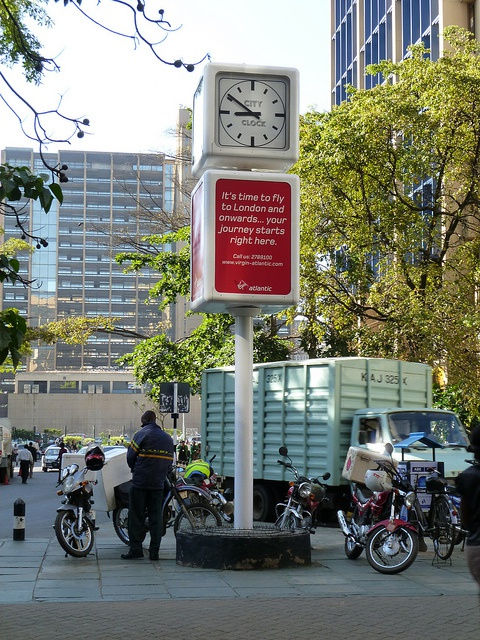non-vehicle: (336, 441, 420, 573), (111, 466, 221, 546), (273, 444, 332, 534), (49, 459, 99, 557), (175, 453, 234, 523)
